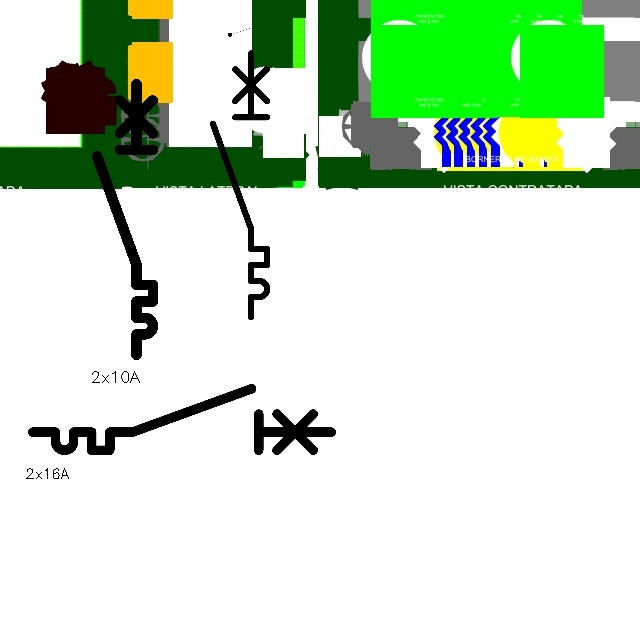interruptor_termomagnetico: (25, 381, 339, 458), (90, 77, 160, 362), (206, 46, 274, 324)
